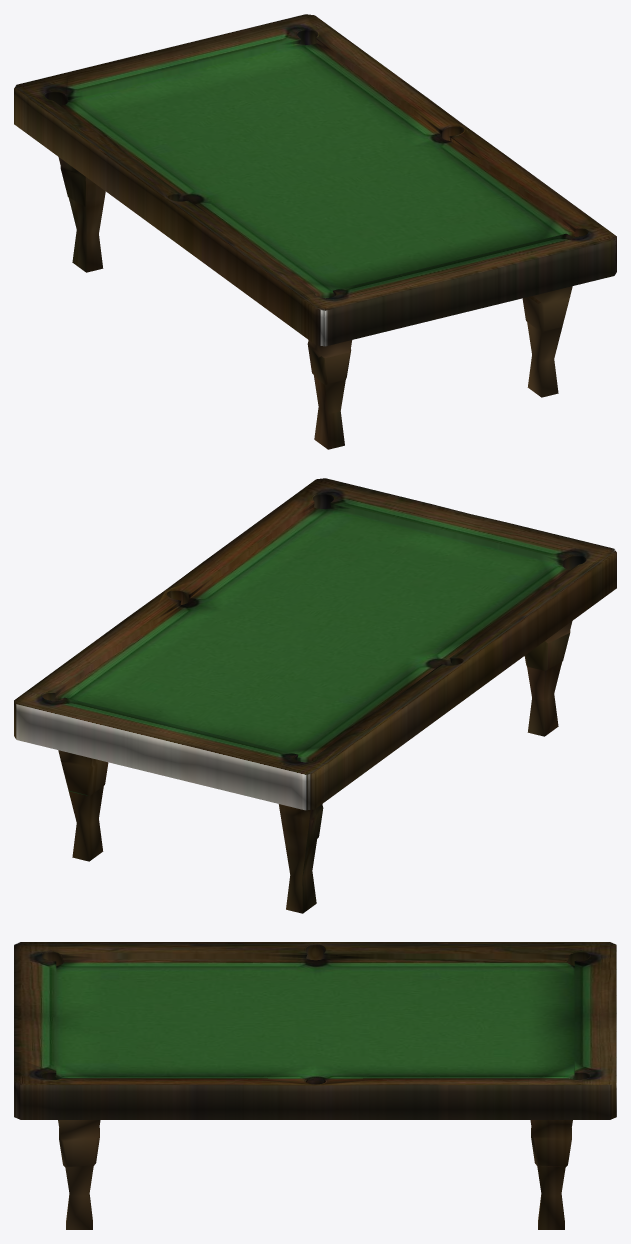
Rendered from billar.glb.
3 views of the same model, one above another, from view 1: azimuth 30°, elevation 25°; view 2: azimuth 150°, elevation 25°; view 3: azimuth 270°, elevation 25° (orthographic). The views are drawn at different scales.
Parts seen in each view (by area): view 1: Cube.001; view 2: Cube.001; view 3: Cube.001.
Boxes of the visible parts, left/top/right/bottom form: Cube.001: left=14, top=14, right=616, bottom=449; Cube.001: left=14, top=478, right=616, bottom=913; Cube.001: left=14, top=942, right=616, bottom=1229.
Bounding box in the file's own units: 2.5 × 1.32 × 4.45.
Materials: 1 (1 with a texture image).
